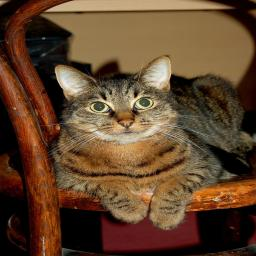catnose: (116, 118, 136, 128)
